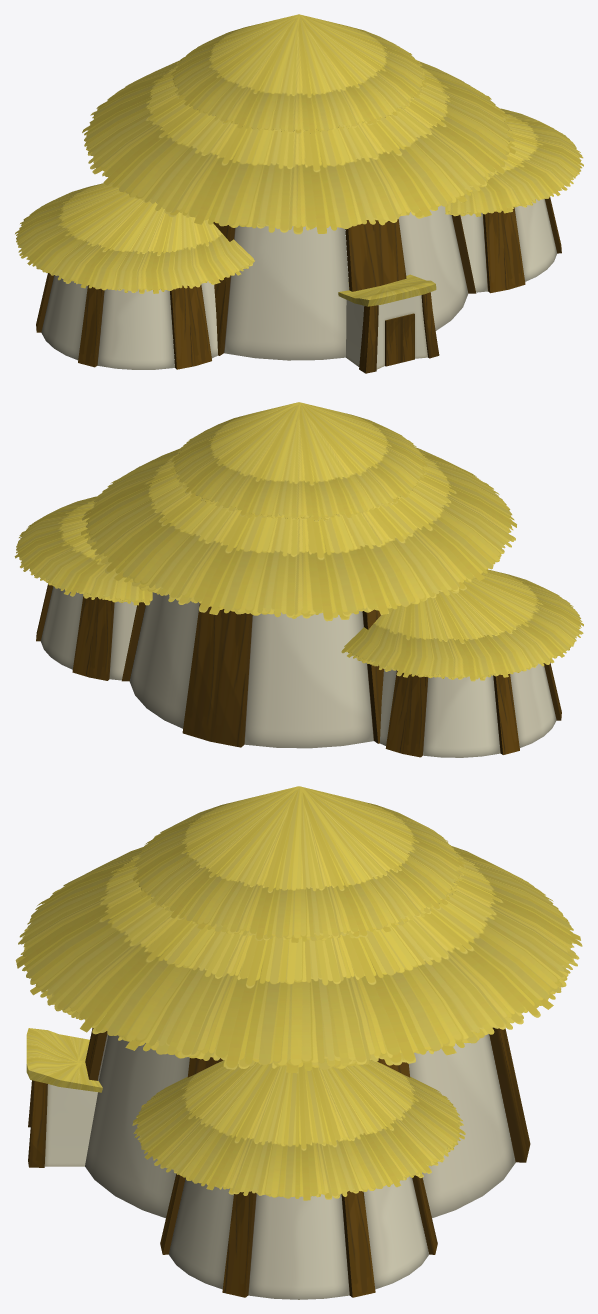
The model's file is hut_big.obj.
3 renders of one model, top to bottom at view 1: azimuth 30°, elevation 25°; view 2: azimuth 150°, elevation 25°; view 3: azimuth 270°, elevation 25°, orthographic. The views are drawn at different scales.
Visible parts, largest first — view 1: Cylinder.011, Cylinder, Cylinder.010, Cylinder.012, Cylinder.002, Cube, Cylinder.013, Cylinder.003; view 2: Cylinder.011, Cylinder, Cylinder.010, Cylinder.012, Cylinder.002, Cylinder.013, Cylinder.003; view 3: Cylinder.011, Cylinder.010, Cylinder.013, Cylinder.003, Cylinder, Cube.
Part boxes in pixels (left/top/right/bottom): Cylinder.011: left=82, top=60, right=515, bottom=234; Cylinder: left=170, top=205, right=476, bottom=360; Cylinder.010: left=171, top=14, right=426, bottom=134; Cylinder.012: left=15, top=182, right=254, bottom=293; Cylinder.002: left=36, top=273, right=217, bottom=369; Cube: left=338, top=274, right=439, bottom=373; Cylinder.013: left=445, top=108, right=583, bottom=216; Cylinder.003: left=460, top=197, right=561, bottom=293; Cylinder.011: left=81, top=448, right=516, bottom=621; Cylinder: left=122, top=592, right=383, bottom=748; Cylinder.010: left=170, top=402, right=427, bottom=521; Cylinder.012: left=341, top=569, right=583, bottom=681; Cylinder.002: left=380, top=662, right=561, bottom=757; Cylinder.013: left=14, top=496, right=152, bottom=605; Cylinder.003: left=36, top=583, right=136, bottom=680; Cylinder.011: left=15, top=846, right=582, bottom=1073; Cylinder.010: left=132, top=786, right=465, bottom=942; Cylinder.013: left=132, top=1059, right=465, bottom=1200; Cylinder.003: left=160, top=1173, right=437, bottom=1299; Cylinder: left=85, top=1027, right=530, bottom=1218; Cube: left=26, top=1028, right=102, bottom=1167.
Bounding box in the file's own units: 9.24 × 4.52 × 6.53.
